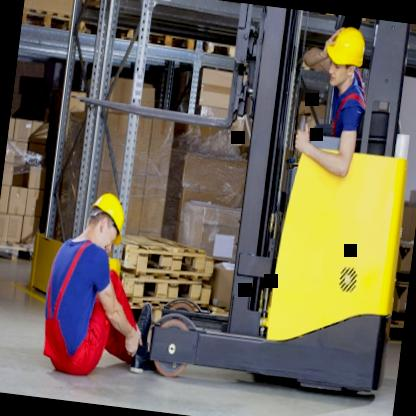helmet: (78, 179, 132, 260), (317, 21, 375, 92)
